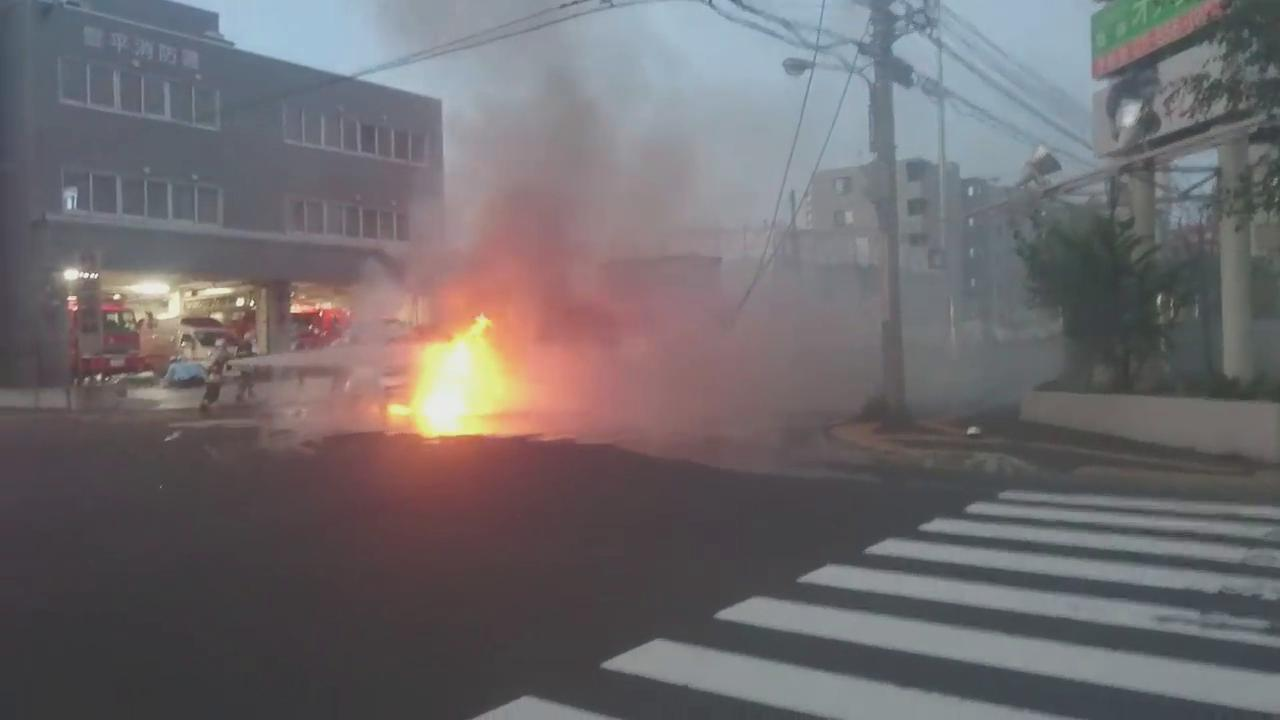Fire: (392, 317, 522, 442)
